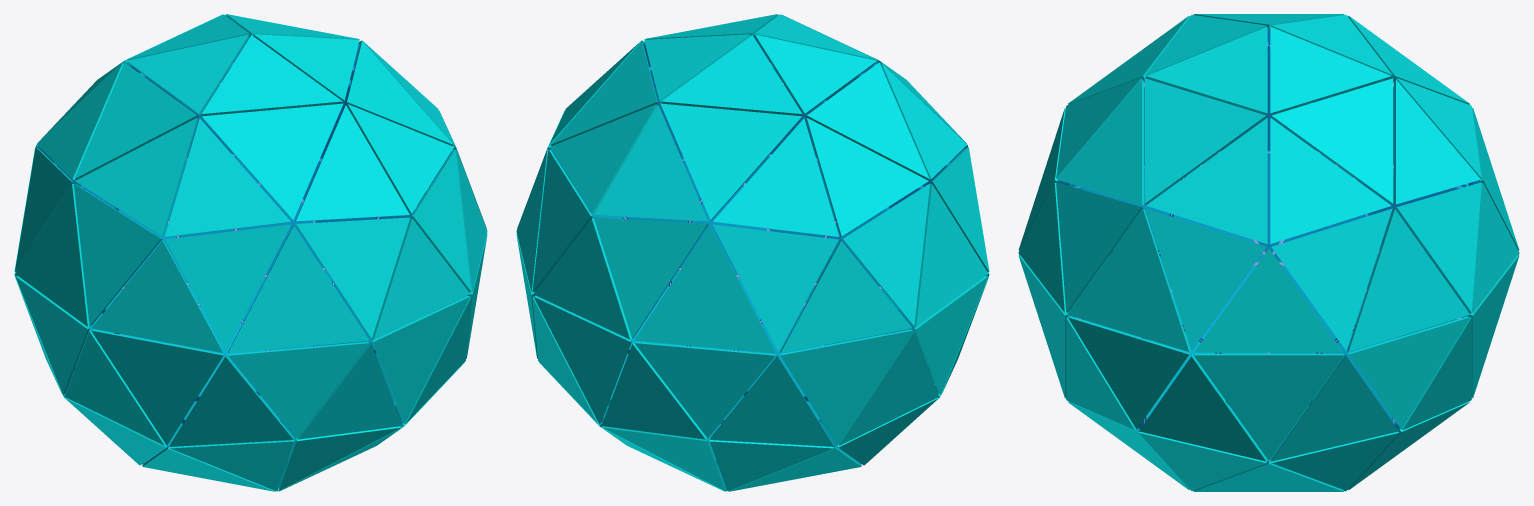
The model's file is shield.fbx.
3 views of the same model, side by side, from view 1: azimuth 30°, elevation 25°; view 2: azimuth 150°, elevation 25°; view 3: azimuth 270°, elevation 25° (orthographic). The views are drawn at different scales.
Parts seen in each view (by area): view 1: Icosphere; view 2: Icosphere; view 3: Icosphere.
Part boxes in pixels (x1,y1,x2,y2): Icosphere: (14,14,487,491); Icosphere: (516,14,989,491); Icosphere: (1018,14,1519,491).
Bounding box in the file's own units: 190 × 199 × 199.
